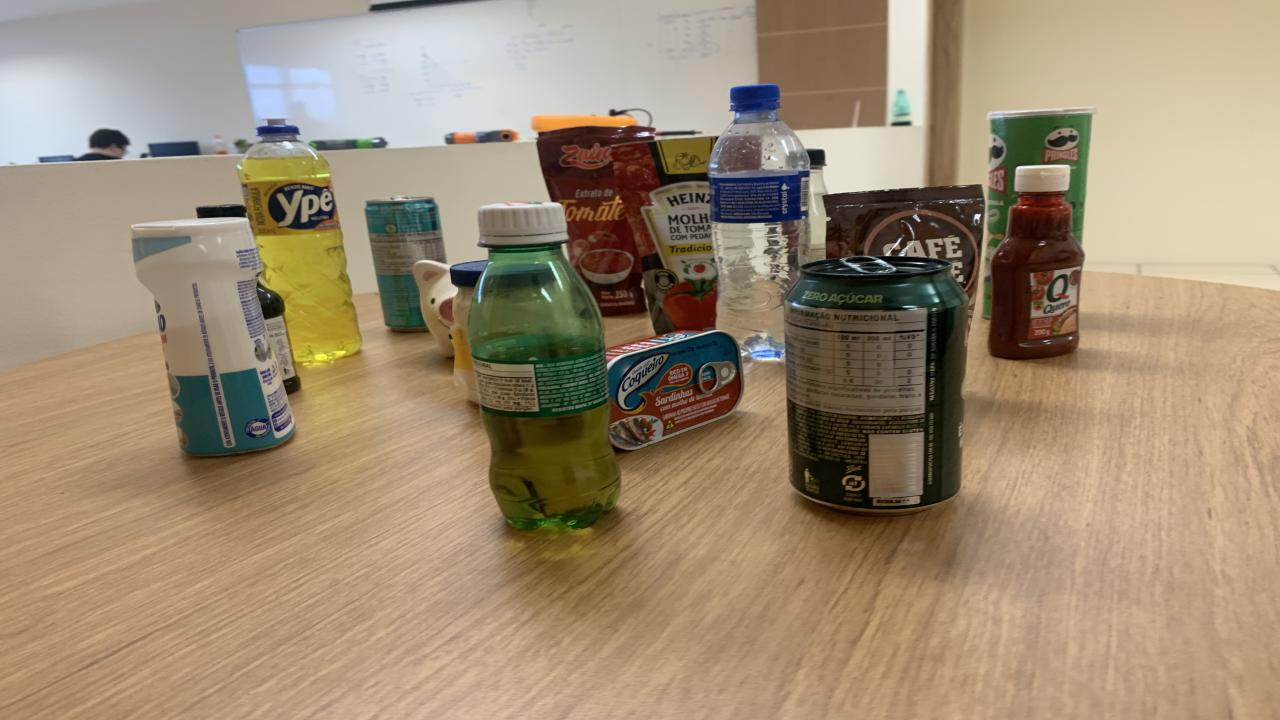Cleaner-Cleanup_Items: (132, 218, 295, 456)
Coffee-Pantry_Items: (822, 186, 985, 313)
Detergent-Cleanup_Items: (238, 120, 362, 362)
Guarana-Drinks: (468, 202, 620, 529)
Guarana_Can-Drinks: (782, 255, 968, 514)
Ketchup-Pantry_Items: (988, 165, 1085, 358)
Mayonnaise-Pantry_Items: (450, 261, 488, 403)
Pig_Safe-Miscellaneous: (412, 261, 458, 358)
Pringles-Snacks: (982, 107, 1095, 317)
Tea-Drinks: (365, 197, 445, 332)
Tomato_Sauce-Pantry_Items: (538, 120, 655, 315), (610, 137, 718, 332)
Tuna_Can-Pantry_Items: (605, 330, 742, 450)
Water_Bottle-Drinks: (708, 84, 810, 360)
